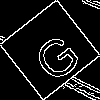G: (25, 25, 84, 85)
